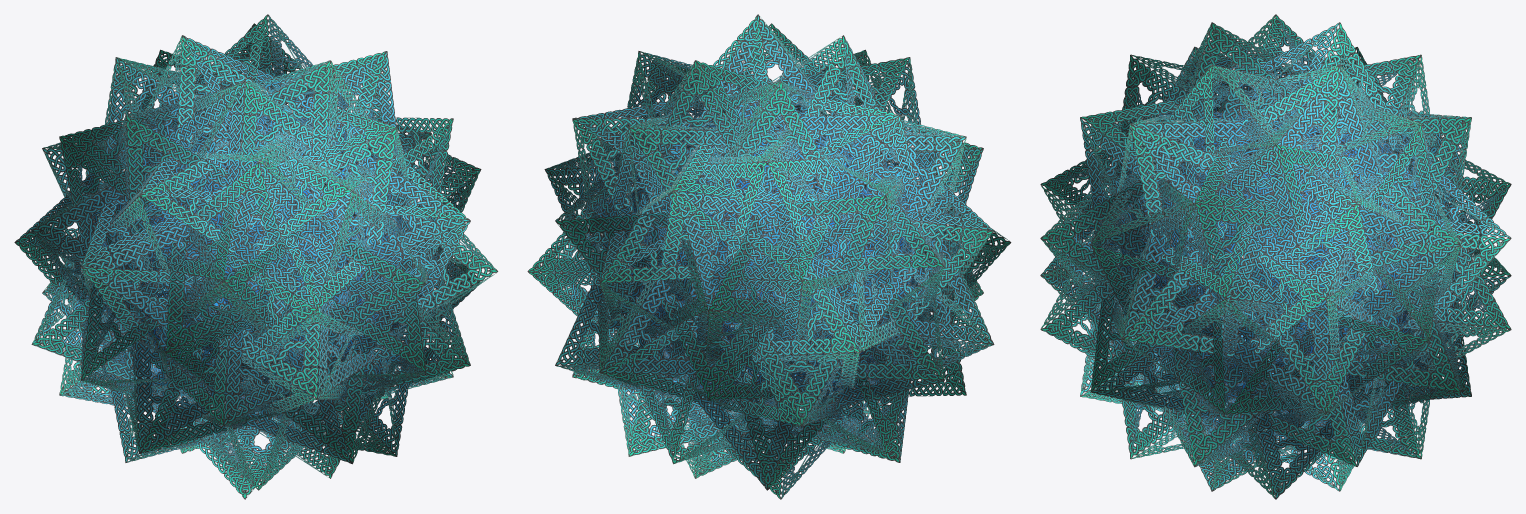
Rendered from 17GreatSnubDodecicosidodecahedron.gltf.
3 renders of one model, left to right at view 1: azimuth 30°, elevation 25°; view 2: azimuth 150°, elevation 25°; view 3: azimuth 270°, elevation 25°, orthographic. The views are drawn at different scales.
Parts seen in each view (by area): view 1: 17GreatSnubDodecicosidodecahedron; view 2: 17GreatSnubDodecicosidodecahedron; view 3: 17GreatSnubDodecicosidodecahedron.
Boxes of the visible parts, box(x1,y1,x2,y2) form: 17GreatSnubDodecicosidodecahedron: box(14, 14, 498, 499); 17GreatSnubDodecicosidodecahedron: box(527, 14, 1011, 499); 17GreatSnubDodecicosidodecahedron: box(1040, 14, 1511, 499).
Bounding box in the file's own units: 1.34 × 1.34 × 1.34.
1 material, 1 textured.
